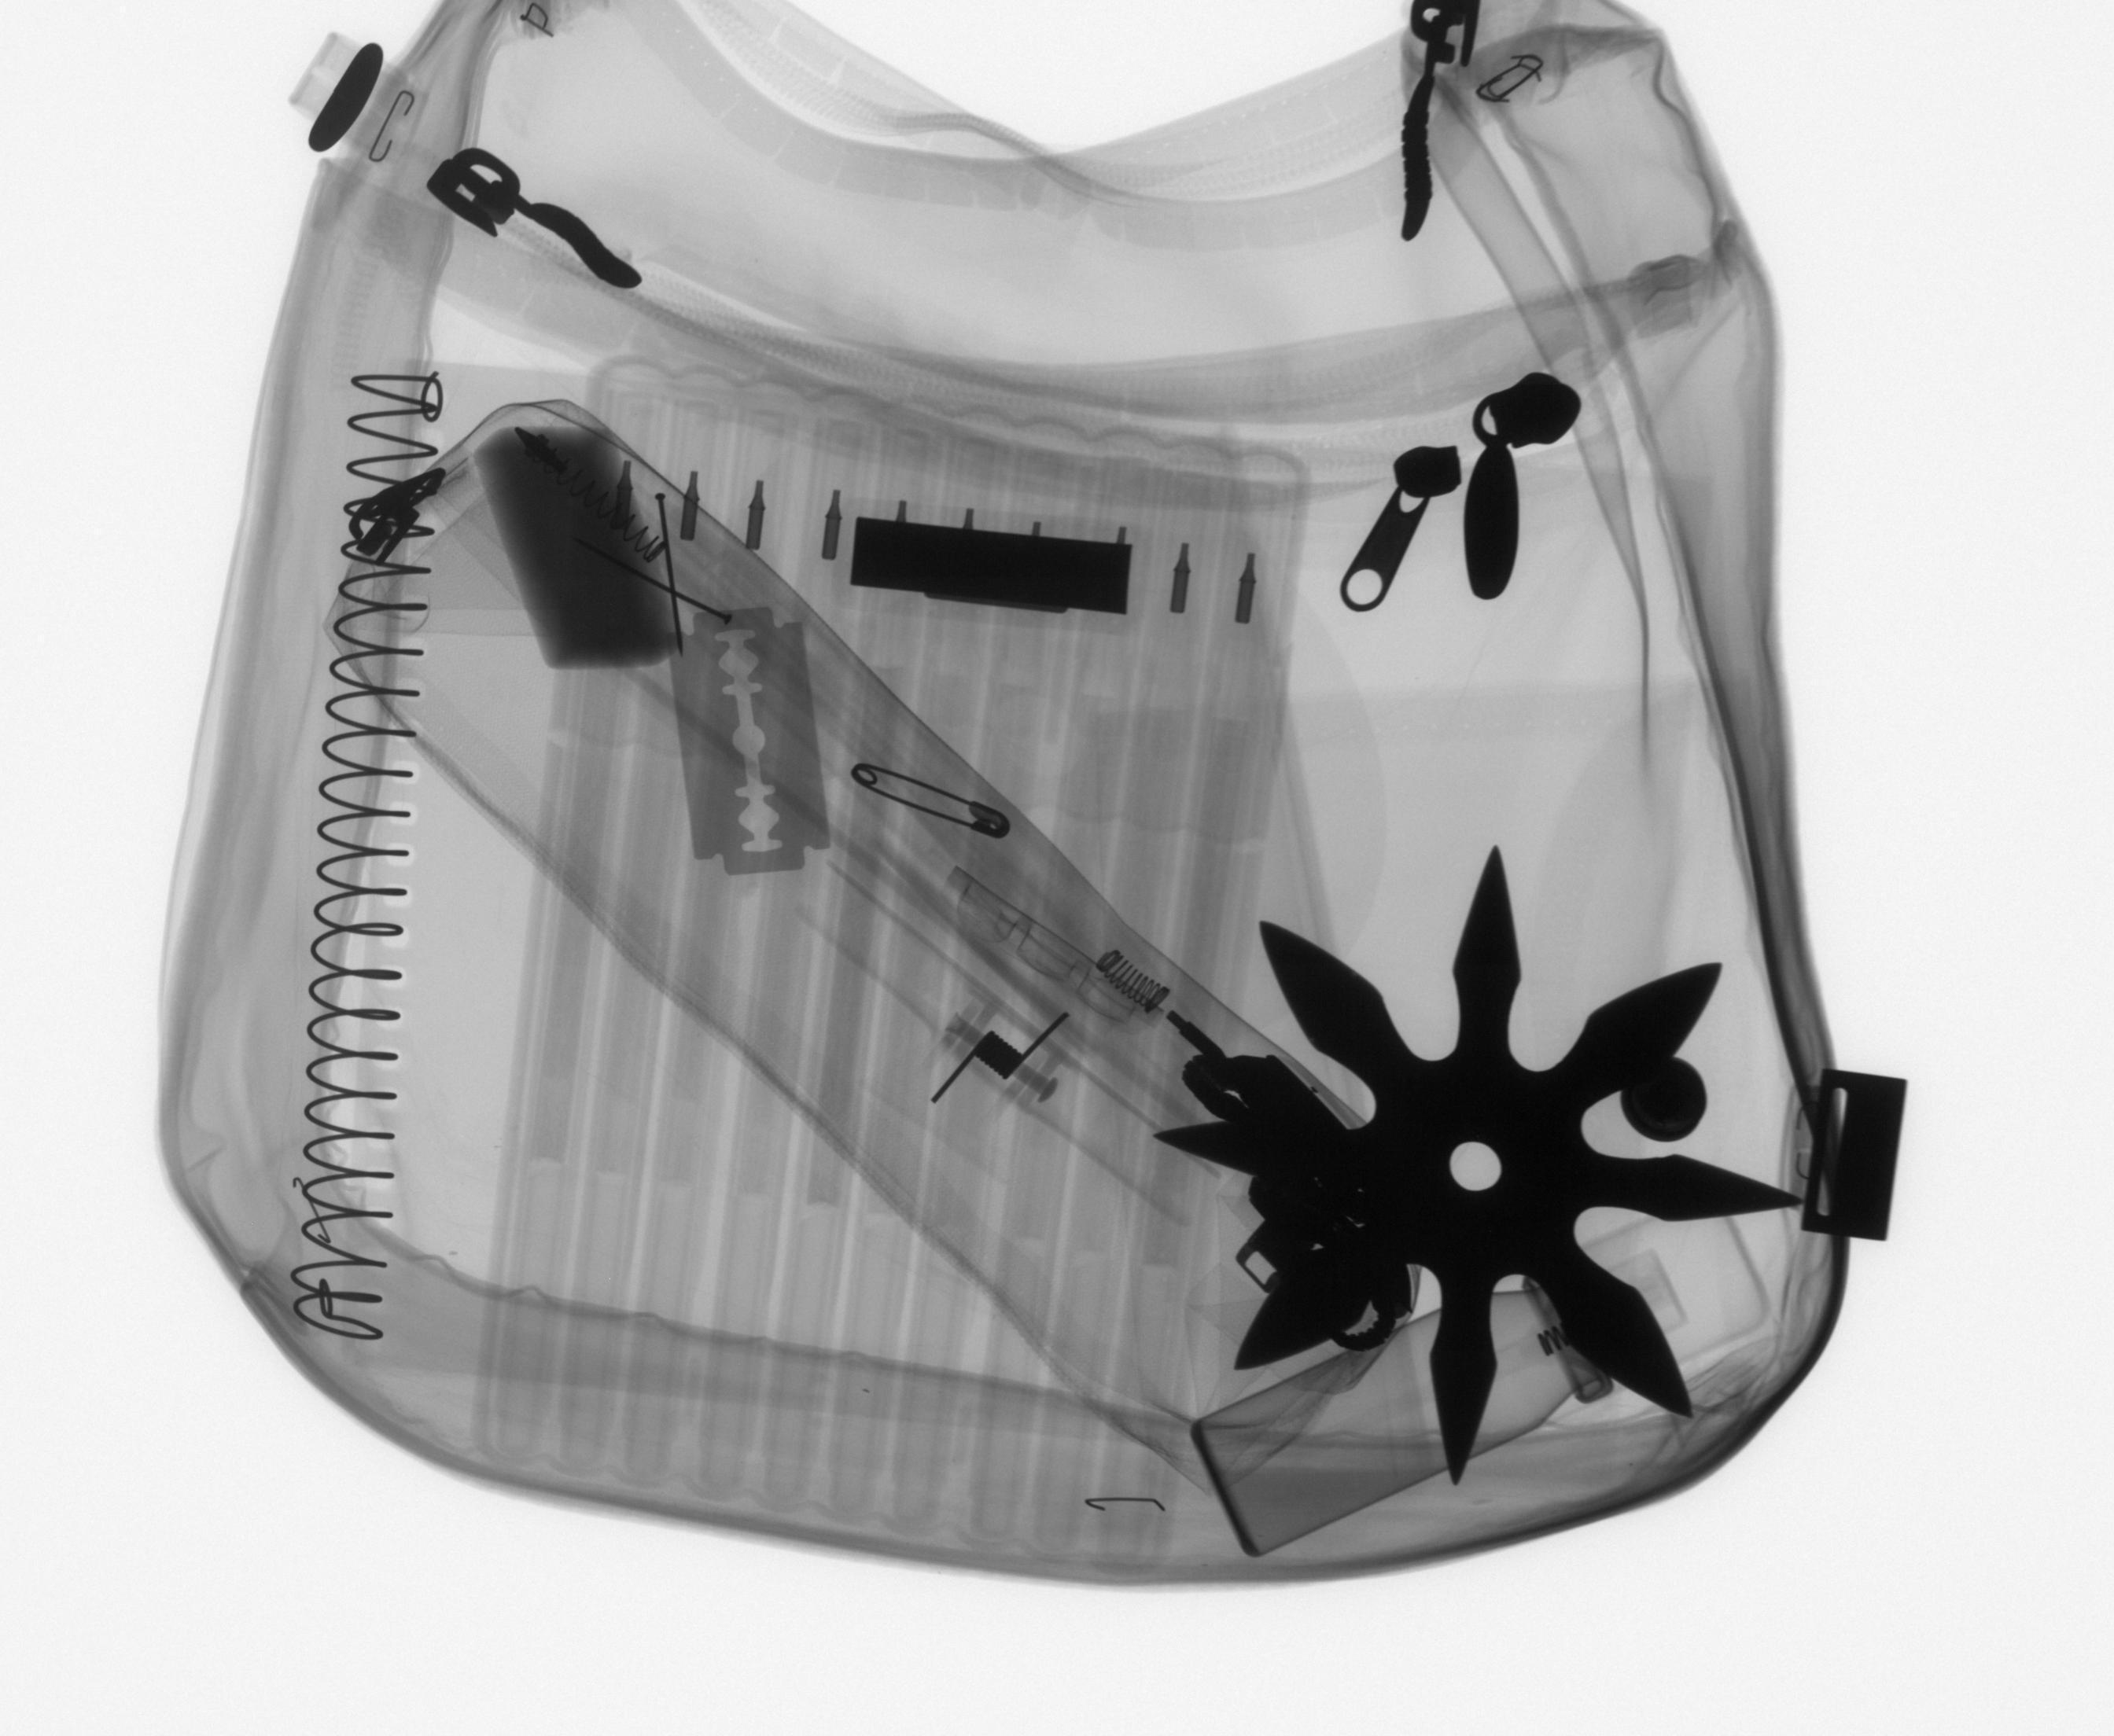RazorBlade: (654, 599, 841, 885)
Shuriken: (1143, 834, 1813, 1496)
